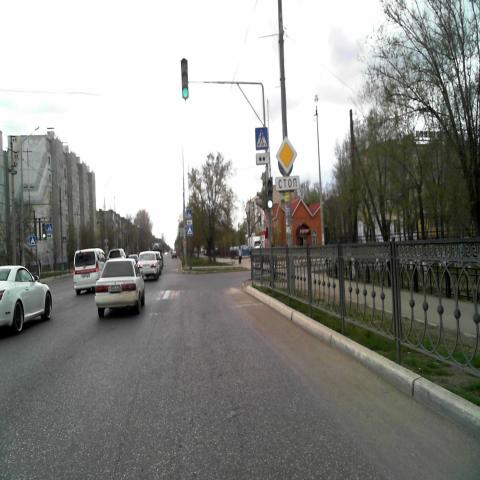8_15: (256, 152, 269, 164)
